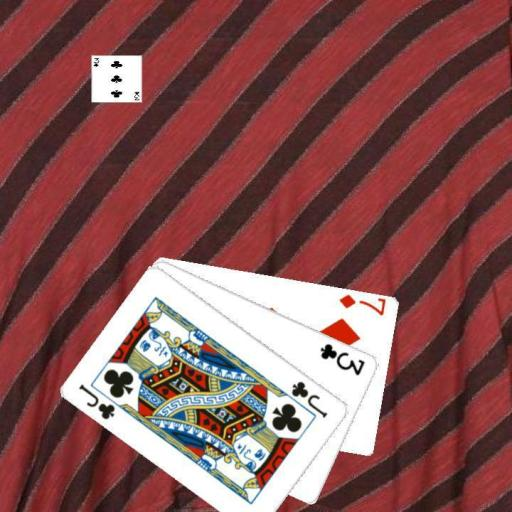card-corner: (317, 340, 367, 377), (288, 378, 329, 420), (76, 380, 117, 422), (336, 291, 387, 317)
